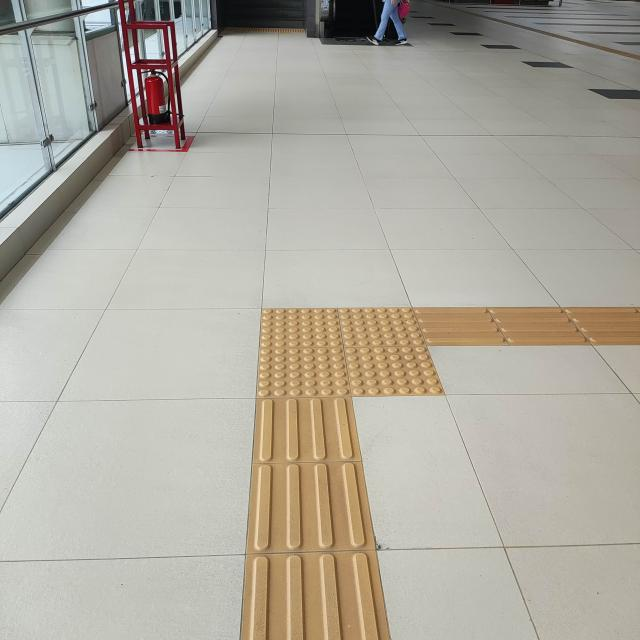kanan: (236, 264, 527, 442)
